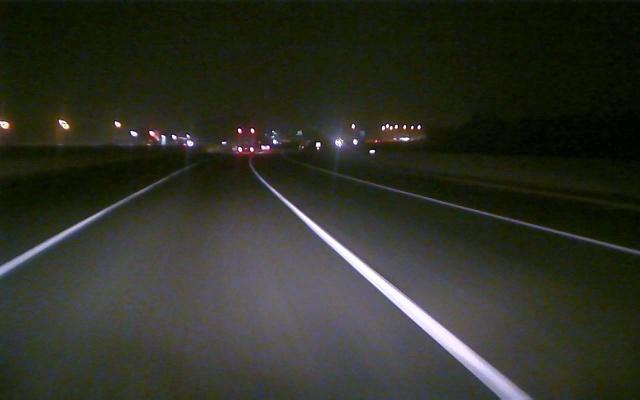lane: (261, 181, 532, 398), (378, 184, 640, 255), (0, 177, 164, 277)
